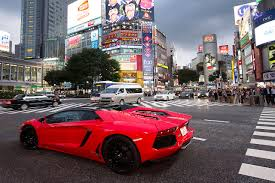Lamborghini: (25, 104, 192, 167)
